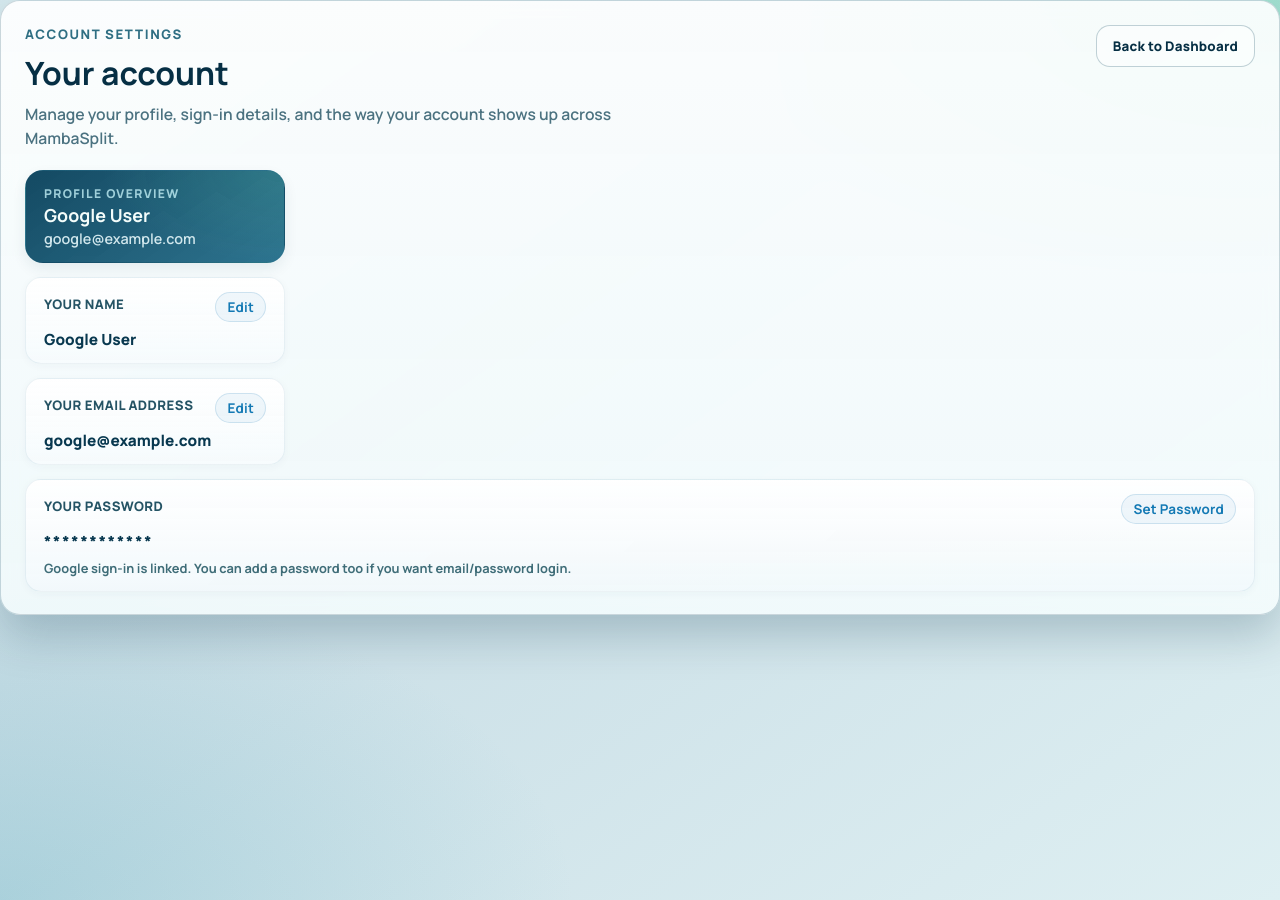
it: AccountView › allows a Google-linked user to submit a new password even when the page is busy
The image size is (1280, 900).
Click the button "Set Password" at (1179, 509), box [1121,494,1236,524]
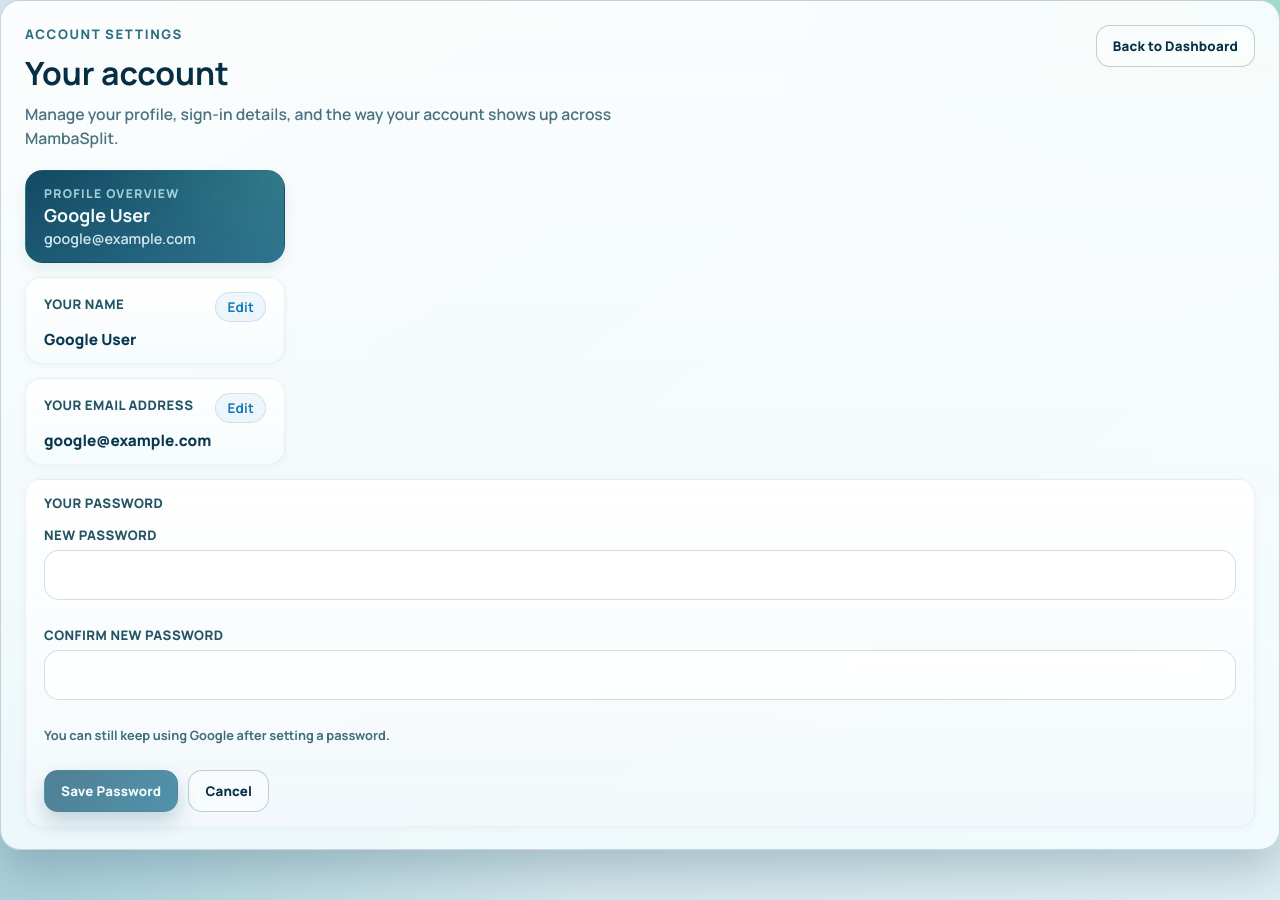
Type "password123" into the password field named "New password" at (640, 575), box [44,550,1236,600]
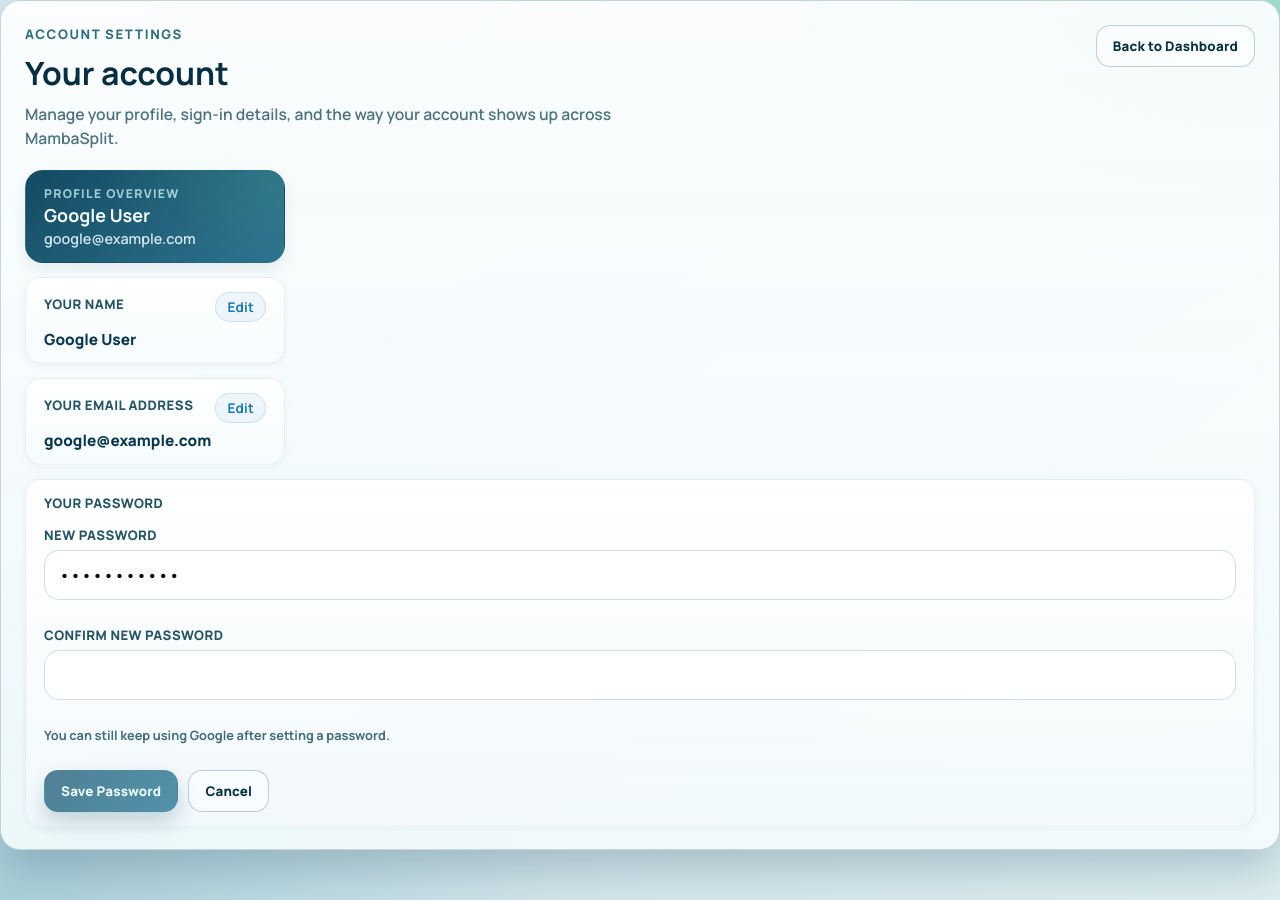
Type "password123" into the password field labelled "Confirm new password" at (640, 675), box [44,650,1236,700]
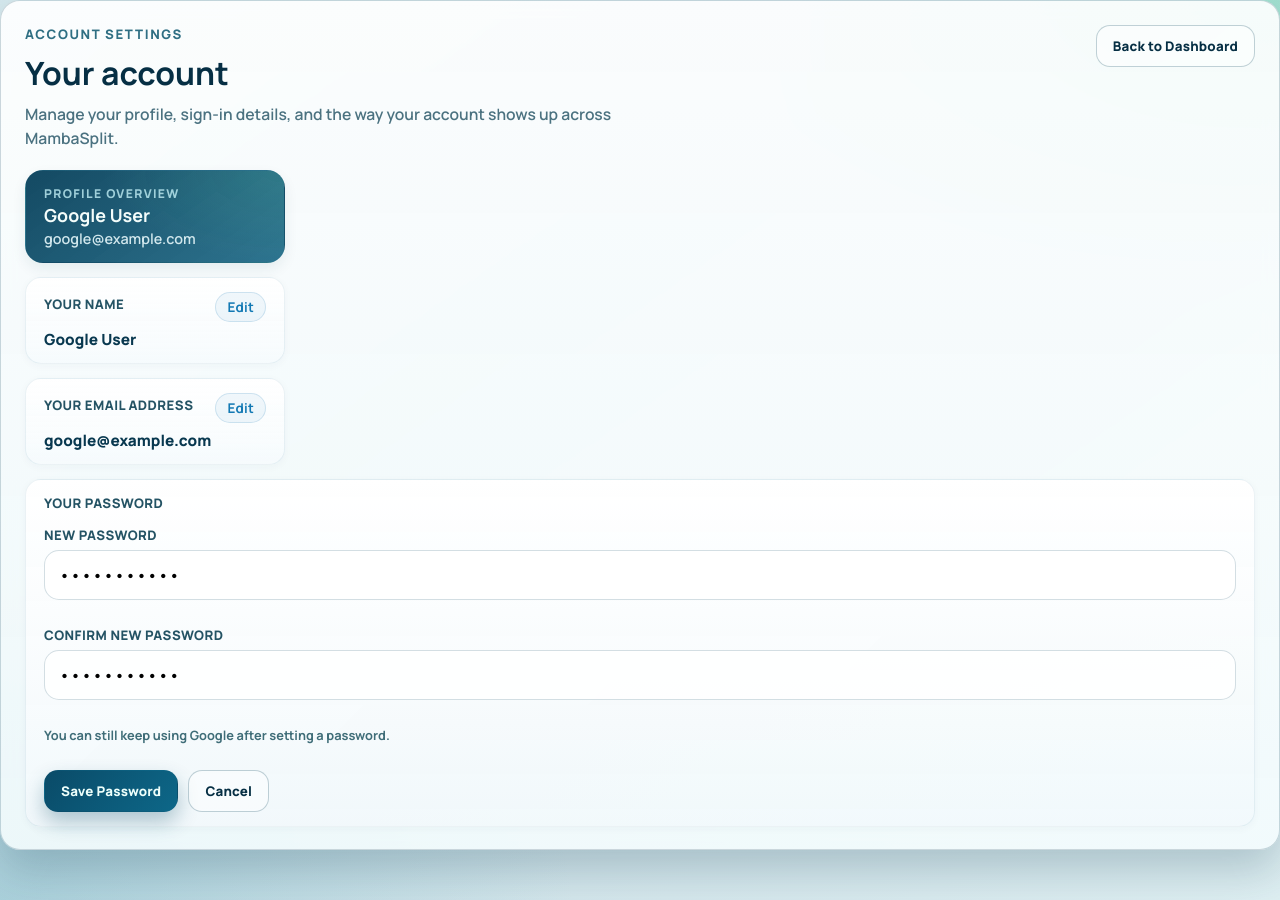
Result: the button "Save Password" is enabled at [44,770,178,812]
